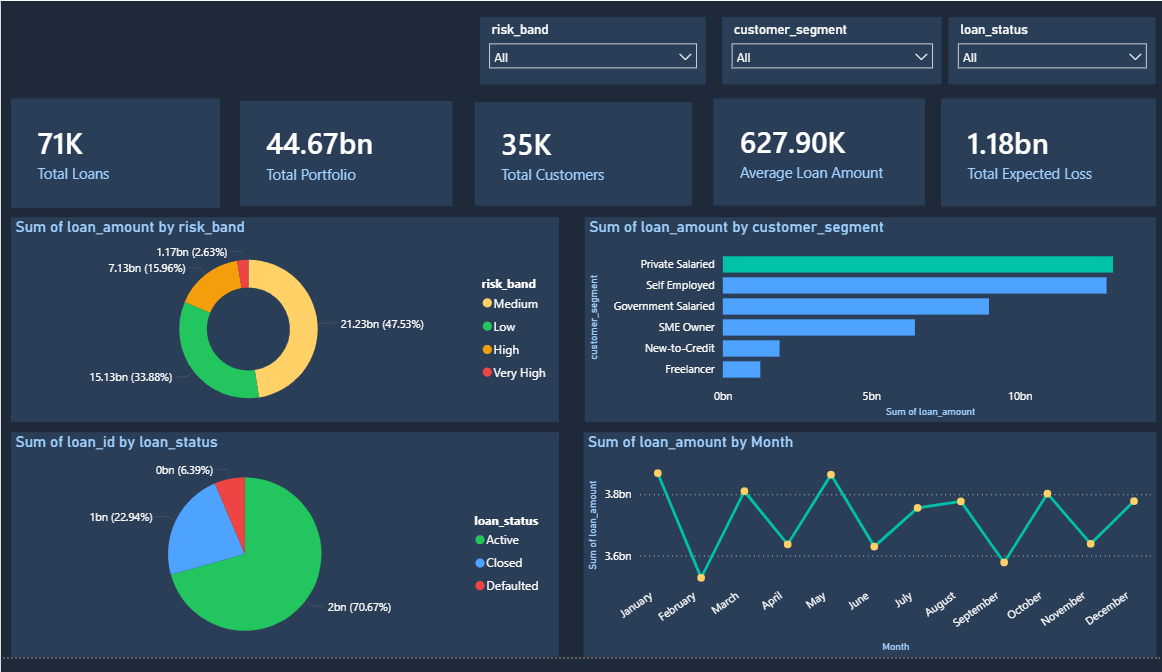

What the dashboard file says about the page in this screenshot:
{"tool":"powerbi","page":{"name":"Executive Dashboard","canvas":[1280,720],"ordinal":0},"visuals":[{"type":"cardVisual","fields":{"Data":["powerbi_credit_risk_dataset.Total Loans"]},"box":[11,107.6,229.9,119.8],"z":0},{"type":"cardVisual","fields":{"Data":["powerbi_credit_risk_dataset.Total Customers"]},"box":[519.7,111.3,238.5,113.7],"z":1000},{"type":"cardVisual","fields":{"Data":["powerbi_credit_risk_dataset.Average Loan Amount"]},"box":[782.6,107.6,232.3,117.4],"z":2000},{"type":"cardVisual","fields":{"Data":["powerbi_credit_risk_dataset.Total Expected Loss"]},"box":[1032.1,107.6,236,118.6],"z":3000},{"type":"donutChart","fields":{"Category":["powerbi_credit_risk_dataset.risk_band"],"Y":["Sum(powerbi_credit_risk_dataset.loan_amount)"]},"box":[11,237.2,601.6,225],"z":4000},{"type":"clusteredBarChart","fields":{"Category":["powerbi_credit_risk_dataset.customer_segment"],"Y":["Sum(powerbi_credit_risk_dataset.loan_amount)"]},"box":[640.9,237.1,627.2,224.9],"z":5000},{"type":"pieChart","fields":{"Category":["powerbi_credit_risk_dataset.loan_status"],"Y":["Sum(powerbi_credit_risk_dataset.loan_id)"]},"box":[11,473.2,601.6,247],"z":6000},{"type":"lineChart","fields":{"Category":["powerbi_credit_risk_dataset.disbursement_date.Variation.Date Hierarchy.Month"],"Y":["Sum(powerbi_credit_risk_dataset.loan_amount)"]},"box":[639.5,473.2,628.5,247],"z":7000},{"type":"cardVisual","fields":{"Data":["powerbi_credit_risk_dataset.Total Portfolio"]},"box":[261.7,110.1,233.6,114.9],"z":8000},{"type":"slicer","fields":{"Values":["powerbi_credit_risk_dataset.risk_band"]},"box":[525.8,18.3,248.2,73.4],"z":9000},{"type":"slicer","fields":{"Values":["powerbi_credit_risk_dataset.customer_segment"]},"box":[791.2,18.3,240.9,73.4],"z":10000},{"type":"slicer","fields":{"Values":["powerbi_credit_risk_dataset.loan_status"]},"box":[1040.6,18.3,227.4,73.4],"z":11000}]}

Visuals, with their boxes in screenshot pixels (x1, y1, x2, y2), scaled from the page's 1280x720 canvas onto the 1162x672 screenshot:
cardVisual - powerbi_credit_risk_dataset.Total Loans: [10,100,219,212]
cardVisual - powerbi_credit_risk_dataset.Total Customers: [472,104,688,210]
cardVisual - powerbi_credit_risk_dataset.Average Loan Amount: [710,100,921,210]
cardVisual - powerbi_credit_risk_dataset.Total Expected Loss: [937,100,1151,211]
donutChart - powerbi_credit_risk_dataset.risk_band x Sum(powerbi_credit_risk_dataset.loan_amount): [10,221,556,431]
clusteredBarChart - powerbi_credit_risk_dataset.customer_segment x Sum(powerbi_credit_risk_dataset.loan_amount): [582,221,1151,431]
pieChart - powerbi_credit_risk_dataset.loan_status x Sum(powerbi_credit_risk_dataset.loan_id): [10,442,556,671]
lineChart - powerbi_credit_risk_dataset.disbursement_date.Variation.Date Hierarchy.Month x Sum(powerbi_credit_risk_dataset.loan_amount): [581,442,1151,671]
cardVisual - powerbi_credit_risk_dataset.Total Portfolio: [238,103,450,210]
slicer - powerbi_credit_risk_dataset.risk_band: [477,17,703,86]
slicer - powerbi_credit_risk_dataset.customer_segment: [718,17,937,86]
slicer - powerbi_credit_risk_dataset.loan_status: [945,17,1151,86]
